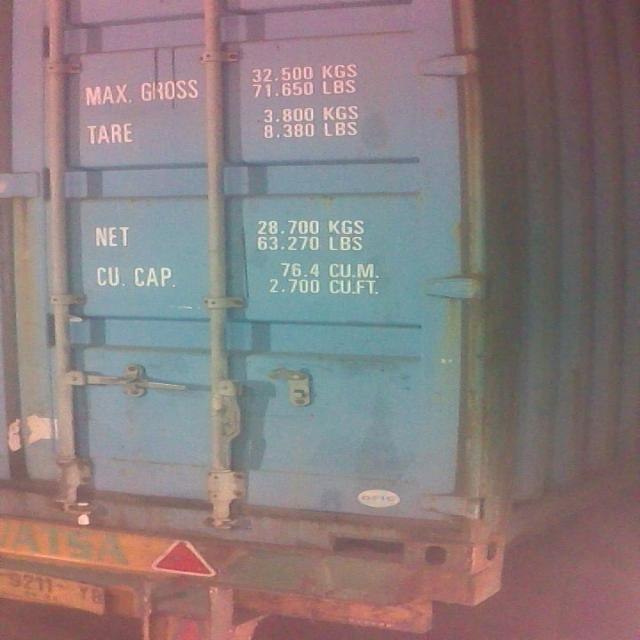seal: (76, 498, 93, 530)
